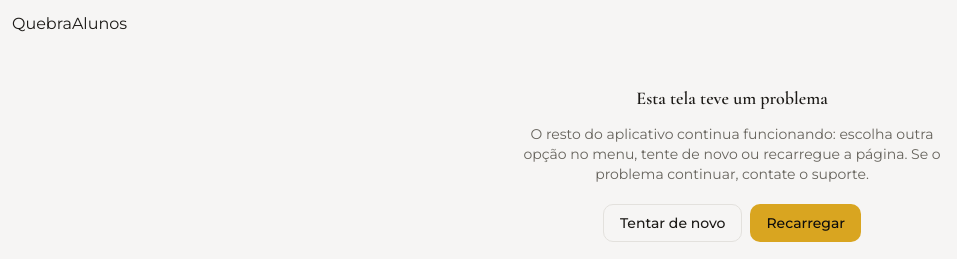
Test case: fronteira de erro por área › ir para outra rota pelo menu limpa o erro
Step 1. Click the link "Alunos" → coordinates (100, 24), box [72,14,127,33]
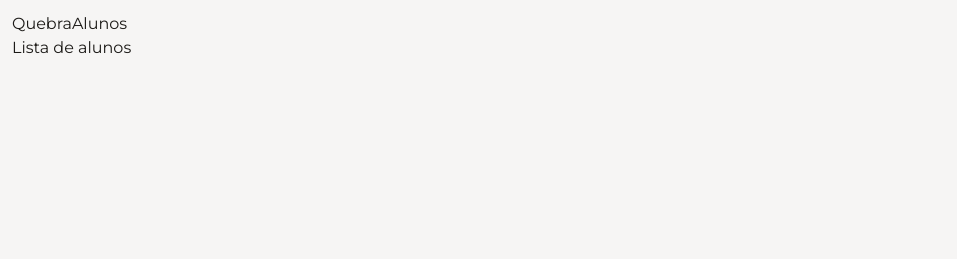
Now the text "Lista de alunos" is shown, box [12,38,131,57]
